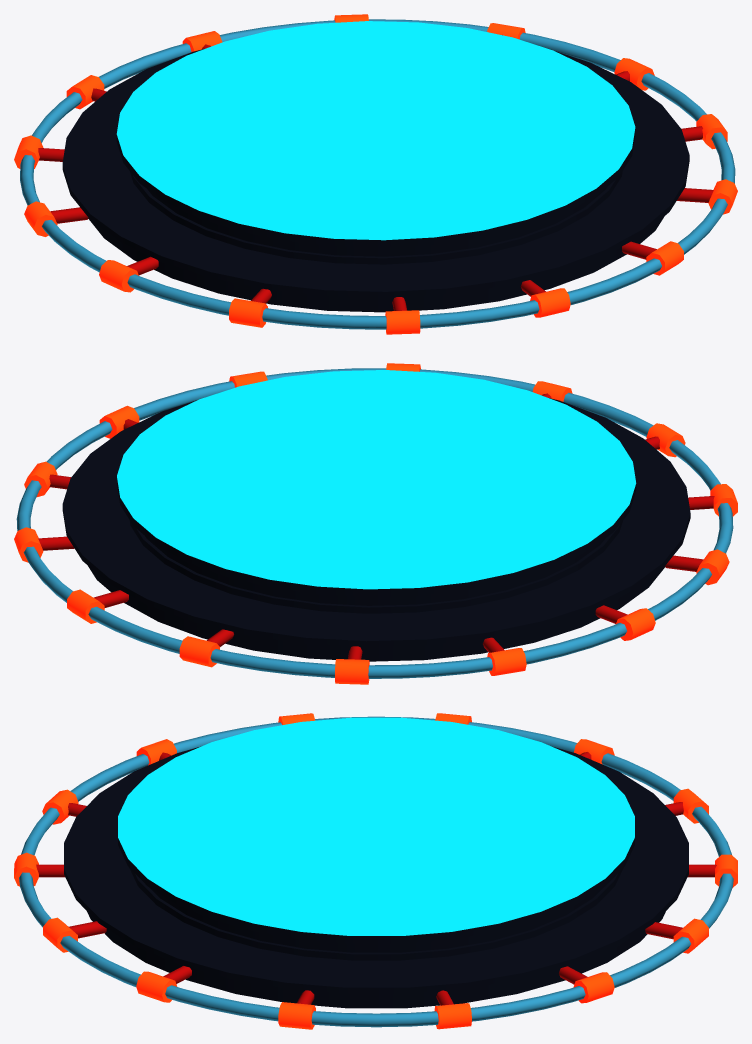
File: Stage_l.fbx
3 renders of one model, top to bottom at view 1: azimuth 30°, elevation 25°; view 2: azimuth 150°, elevation 25°; view 3: azimuth 270°, elevation 25°, orthographic.
Visible parts, largest first — view 1: Stage_l; view 2: Stage_l; view 3: Stage_l.
Part boxes in pixels (x1,y1,x2,y2): Stage_l: [14, 14, 737, 334]; Stage_l: [14, 363, 737, 684]; Stage_l: [14, 713, 737, 1029].
Size of the model in its own units: 447 by 450 by 38.27.
